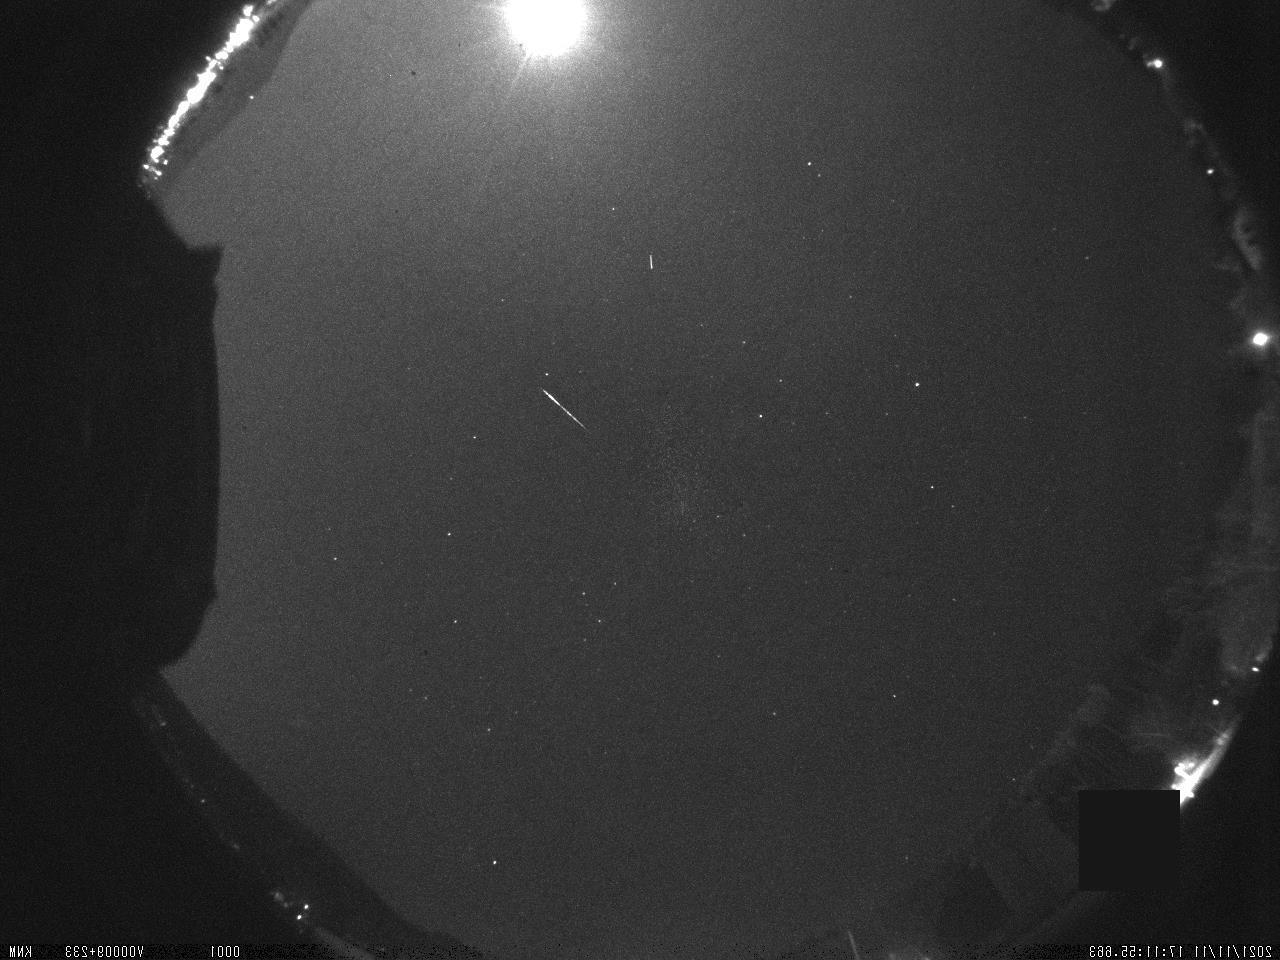meteor: (514, 380, 622, 440)
